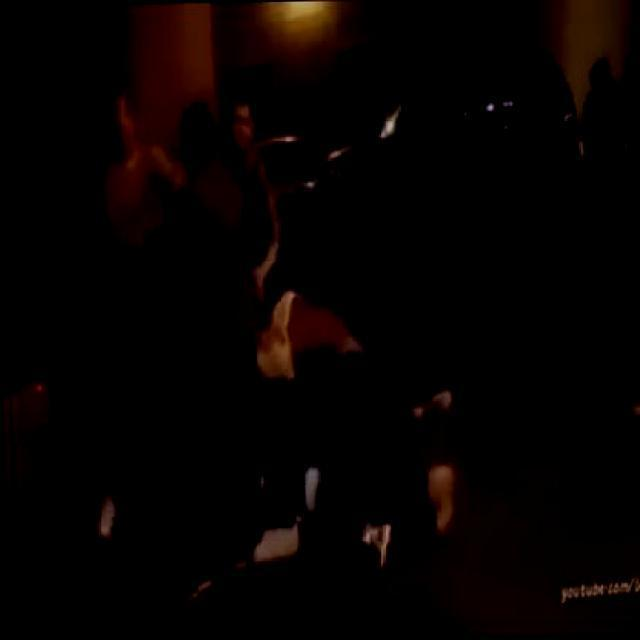fight: (180, 290, 458, 512), (94, 86, 266, 379)
